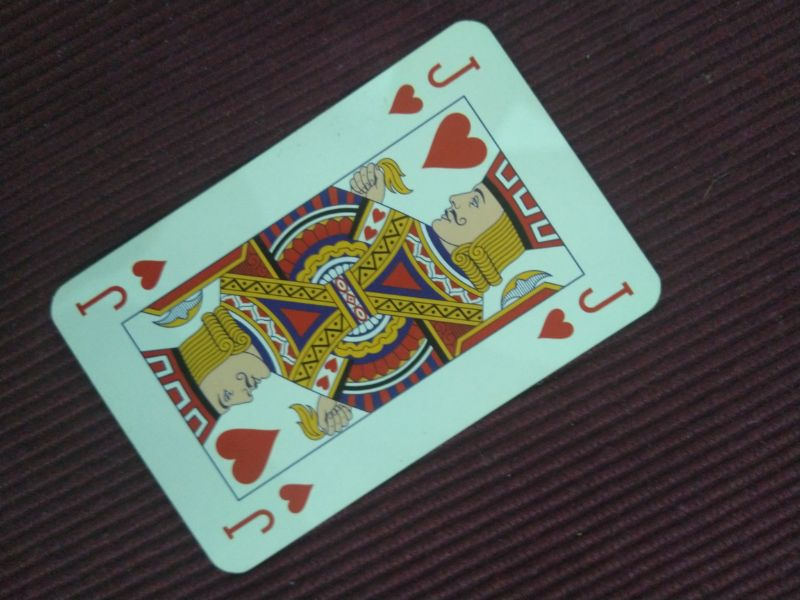Jh: (531, 277, 638, 342), (382, 53, 486, 117), (73, 256, 170, 319), (220, 482, 317, 543)
